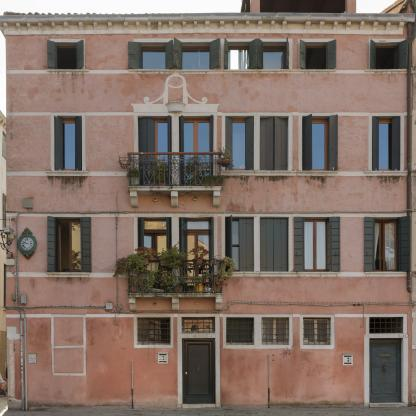Balcony: (127, 259, 223, 297), (126, 152, 222, 190)
Blind: (260, 217, 289, 272), (139, 118, 156, 186), (239, 218, 254, 272), (397, 216, 411, 272), (260, 117, 274, 170), (328, 216, 341, 272), (275, 117, 288, 171), (179, 217, 188, 293), (302, 113, 313, 171), (328, 114, 339, 171), (47, 216, 58, 272), (81, 217, 92, 272), (294, 217, 305, 272), (364, 217, 375, 272), (245, 116, 254, 170), (225, 215, 233, 272), (208, 217, 214, 293), (166, 217, 172, 293), (138, 218, 144, 293), (55, 116, 63, 171), (392, 116, 400, 171), (225, 116, 233, 170), (128, 41, 142, 69), (372, 116, 379, 171), (179, 115, 184, 186), (167, 115, 172, 186), (210, 38, 221, 70), (75, 116, 81, 171), (326, 40, 337, 70), (398, 39, 409, 69), (174, 37, 183, 69), (210, 115, 214, 186), (249, 39, 258, 70), (165, 40, 173, 70), (47, 40, 55, 69), (76, 40, 84, 69), (300, 39, 307, 69), (258, 38, 264, 69), (370, 40, 376, 70), (224, 38, 229, 69), (286, 37, 288, 69)
Building Outline: (0, 0, 415, 410)
Cornice: (131, 73, 220, 112)
Door: (179, 116, 213, 186), (138, 116, 172, 186), (183, 338, 216, 404), (179, 231, 214, 293), (369, 339, 402, 403), (138, 231, 172, 293)
Facade: (6, 20, 413, 410)
Floor: (6, 193, 412, 299), (6, 103, 412, 193)
Floor Slab: (6, 96, 412, 103), (6, 186, 412, 192), (6, 293, 412, 299)
Ground Floor: (6, 299, 412, 407)
Molding: (3, 20, 405, 35)
Sill: (218, 271, 340, 277), (127, 69, 337, 72), (218, 170, 338, 174), (46, 272, 91, 278), (364, 272, 412, 277), (363, 170, 410, 174), (45, 170, 90, 174), (364, 69, 410, 72), (46, 69, 90, 72)
Top Floor: (6, 20, 412, 103)
Window: (260, 217, 289, 272), (225, 217, 254, 272), (225, 116, 254, 170), (54, 116, 82, 171), (55, 217, 83, 272), (373, 217, 401, 272), (373, 116, 401, 171), (303, 116, 331, 171), (260, 116, 288, 170), (303, 217, 330, 272), (137, 317, 171, 345), (139, 42, 171, 69), (226, 317, 255, 345), (181, 42, 211, 69), (303, 318, 331, 346), (225, 42, 254, 69), (260, 42, 289, 69), (372, 42, 401, 69), (53, 42, 81, 69), (262, 317, 289, 345), (303, 42, 331, 69), (370, 317, 404, 333), (182, 317, 215, 333), (179, 217, 214, 230), (138, 217, 172, 230)
